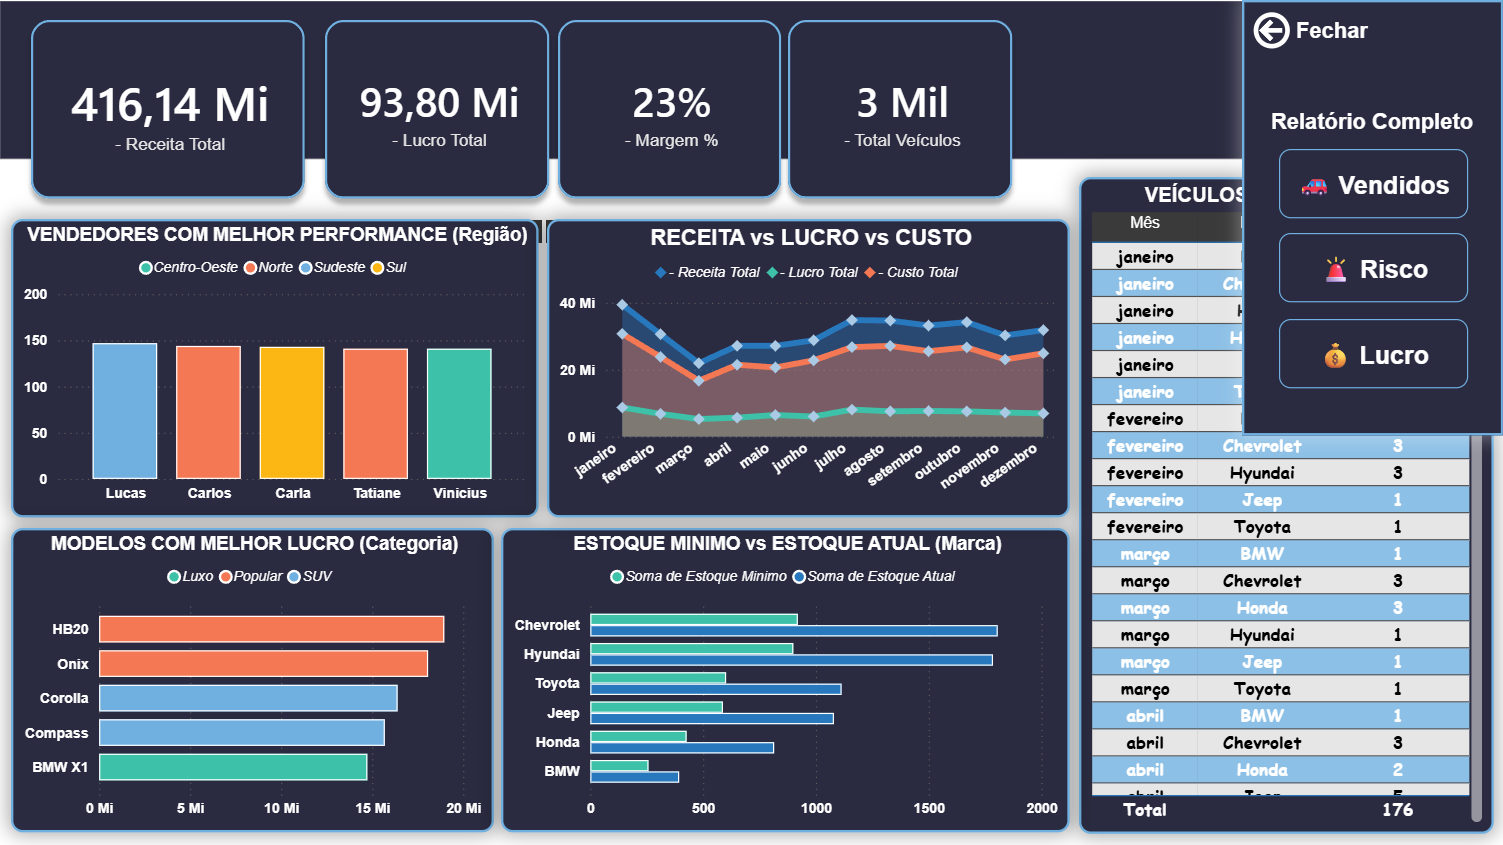

Layout of this report page (visuals, bound fields, positions):
{"tool":"powerbi","page":{"name":"DASHBOARD - PRINCIPAL","canvas":[1280,720],"ordinal":0},"visuals":[{"type":"shape","box":[0,0,1280,136.1],"z":0},{"type":"cardVisual","fields":{"Data":["Base.Imp Margem %"]},"box":[458.3,0,224.7,186.2],"z":1000},{"type":"cardVisual","fields":{"Data":["Base.Imp Lucro Total"]},"box":[260.6,0,226,186.2],"z":2000},{"type":"cardVisual","title":"RECEITA ","fields":{"Data":["Base.Imp Receita Total"]},"box":[10.3,0,267,186.2],"z":3000},{"type":"cardVisual","fields":{"Data":["Base.Imp Total Veículos"]},"box":[654.8,0,226,186.2],"z":4000},{"type":"columnChart","title":"VENDEDORES COM MELHOR PERFORMANCE (Região)","fields":{"Category":["Base.Vendedor"],"Y":["Base.Imp Total Veículos"],"Series":["Base.Regiao"]},"box":[10.3,186.2,449.3,254.2],"z":5000},{"type":"tableEx","title":"VEÍCULOS PARADOS (Marca)","fields":{"Values":["Base.Data.Variation.Hierarquia de datas.Mês","Base.Marca","Base.- Veiculos Parados"]},"box":[919.5,150.7,353,559],"z":6000},{"type":"barChart","title":"MODELOS COM MELHOR LUCRO (Categoria)","fields":{"Category":["Base.Modelo"],"Y":["Base.Imp Lucro Total"],"Series":["Base.Categoria"]},"box":[10.3,449.3,410.8,259.3],"z":7000},{"type":"clusteredBarChart","title":"ESTOQUE MINIMO vs ESTOQUE ATUAL (Marca)","fields":{"Y":["Sum(Base.Estoque Minimo)","Sum(Base.Estoque Atual)"],"Category":["Base.Marca"]},"box":[427.5,449.3,484,259.3],"z":8000},{"type":"lineChart","title":"RECEITA vs LUCRO vs CUSTO","fields":{"Y":["Base.Imp Receita Total","Base.Imp Lucro Total","Base.Imp Custo Total"],"Category":["Base.Data.Variation.Hierarquia de datas.Mês"]},"box":[466,186.2,445.5,254.2],"z":9000},{"type":"image","box":[1212.2,10,46.5,61.6],"z":11000},{"type":"slicer","fields":{"Values":["Base.Regiao","Base.Estado","Base.Cidade"]},"box":[880.5,6.3,262.5,64.1],"z":18000},{"type":"slicer","fields":{"Values":["Base.Categoria","Base.Marca","Base.Modelo"]},"box":[880.5,68.3,262.5,63.8],"z":19000},{"type":"image","box":[1204.2,67.5,62,63.8],"z":20000}]}

Visuals, with their boxes in screenshot pixels (x1, y1, x2, y2), scaled from the page's 1280x720 canvas onto the 1503x845 screenshot:
shape: 0, 0, 1502, 160
cardVisual - Base.Imp Margem %: 538, 0, 802, 219
cardVisual - Base.Imp Lucro Total: 306, 0, 571, 219
"RECEITA " cardVisual: 12, 0, 326, 219
cardVisual - Base.Imp Total Veículos: 769, 0, 1034, 219
"VENDEDORES COM MELHOR PERFORMANCE (Região)" columnChart: 12, 219, 540, 517
"VEÍCULOS PARADOS (Marca)" tableEx: 1080, 177, 1494, 833
"MODELOS COM MELHOR LUCRO (Categoria)" barChart: 12, 527, 494, 832
"ESTOQUE MINIMO vs ESTOQUE ATUAL (Marca)" clusteredBarChart: 502, 527, 1070, 832
"RECEITA vs LUCRO vs CUSTO" lineChart: 547, 219, 1070, 517
image: 1423, 12, 1478, 84
slicer - Base.Regiao x Base.Estado: 1034, 7, 1342, 83
slicer - Base.Categoria x Base.Marca: 1034, 80, 1342, 155
image: 1414, 79, 1487, 154
